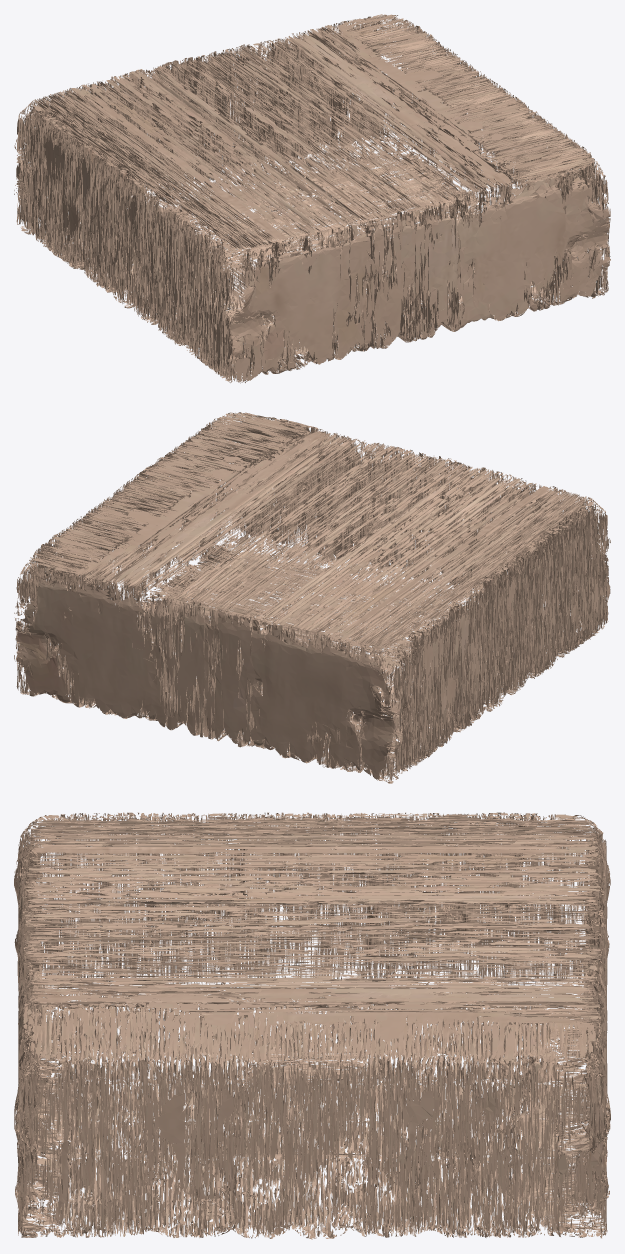
The model's file is lounge_coffee_table.glb.
3 renders of one model, top to bottom at view 1: azimuth 30°, elevation 25°; view 2: azimuth 150°, elevation 25°; view 3: azimuth 270°, elevation 25°, orthographic. The views are drawn at different scales.
Visible parts, largest first — view 1: world; view 2: world; view 3: world.
Part boxes in pixels (bbox=[...]): world: bbox=[14, 14, 610, 383]; world: bbox=[14, 412, 610, 783]; world: bbox=[14, 812, 610, 1239].
Bounding box in the file's own units: 1.2 × 0.4 × 1.2.
1 material, 1 textured.
